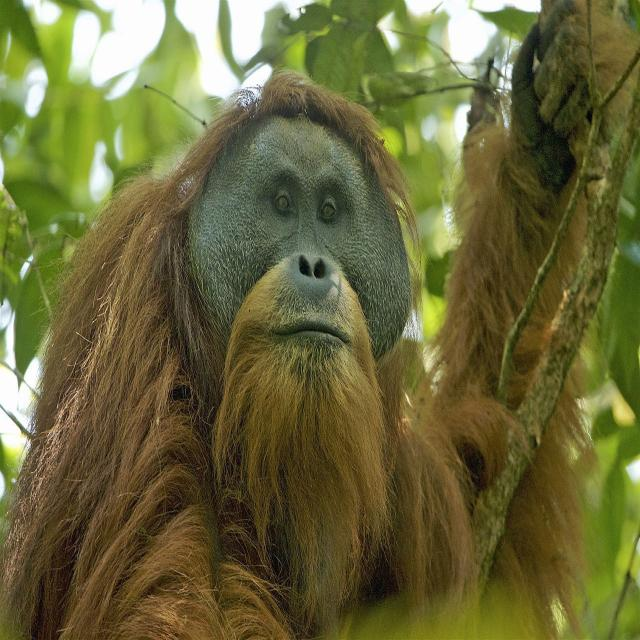Orangutan: (30, 85, 596, 640)
